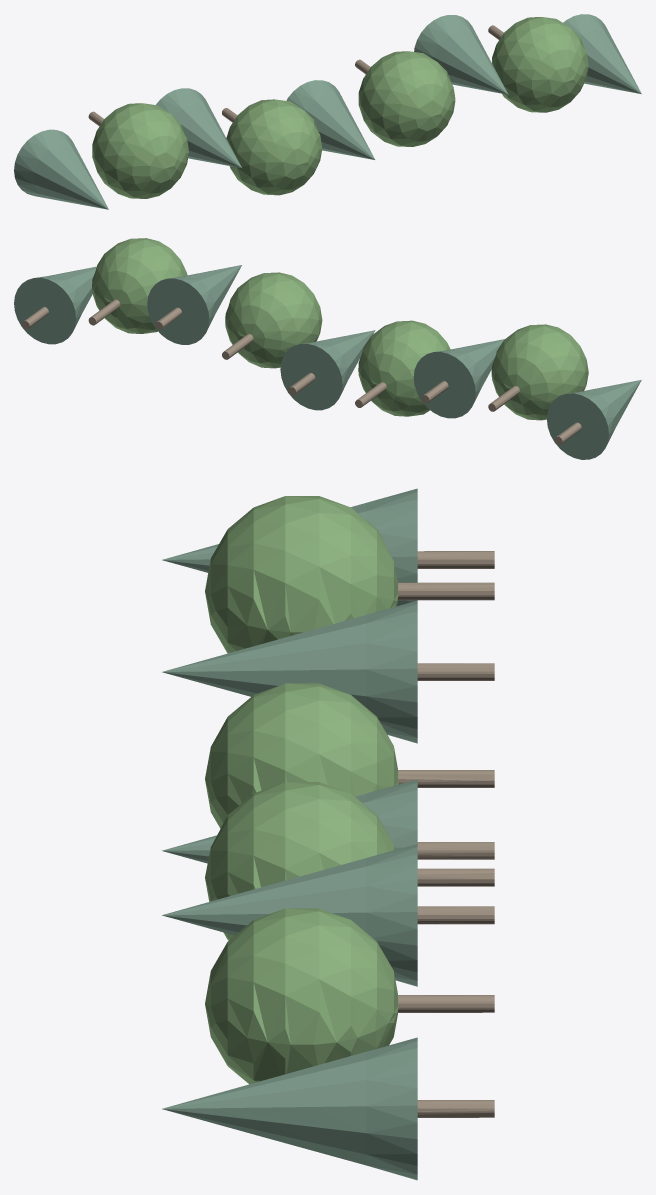
Rendered from r-102-saratoga-mixed-treeline.glb.
The picture shows the model from 3 angles, top to bottom: view 1: azimuth 30°, elevation 25°; view 2: azimuth 150°, elevation 25°; view 3: azimuth 270°, elevation 25°; orthographic projection. The views are drawn at different scales.
Parts seen in each view (by area): view 1: hardwoods, pines, trunks; view 2: hardwoods, pines, trunks; view 3: hardwoods, pines, trunks.
Boxes of the visible parts, left/top/right/bottom form: hardwoods: left=92, top=17, right=588, bottom=198; pines: left=14, top=14, right=641, bottom=209; trunks: left=88, top=25, right=503, bottom=126; hardwoods: left=92, top=238, right=588, bottom=420; pines: left=14, top=265, right=641, bottom=459; trunks: left=22, top=299, right=581, bottom=444; hardwoods: left=205, top=496, right=398, bottom=1084; pines: left=161, top=488, right=417, bottom=1180; trunks: left=398, top=551, right=494, bottom=1117.
Size of the model in its own units: 53600 by 9960 by 12999.
